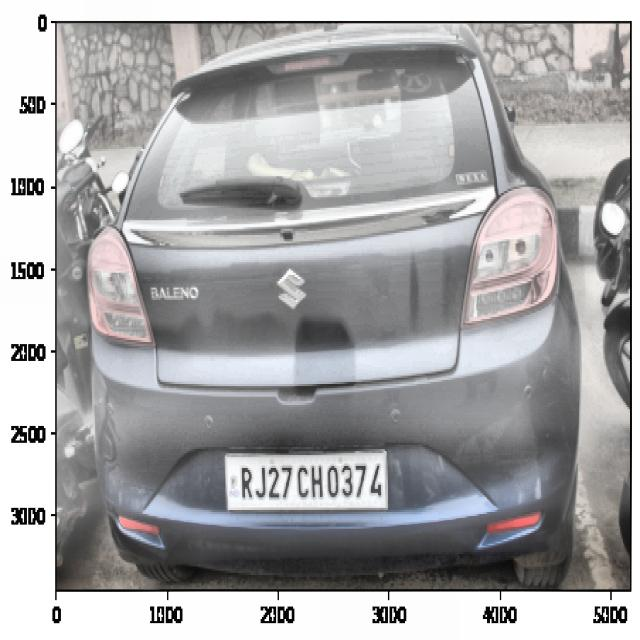license_plate: (229, 451, 386, 512)
